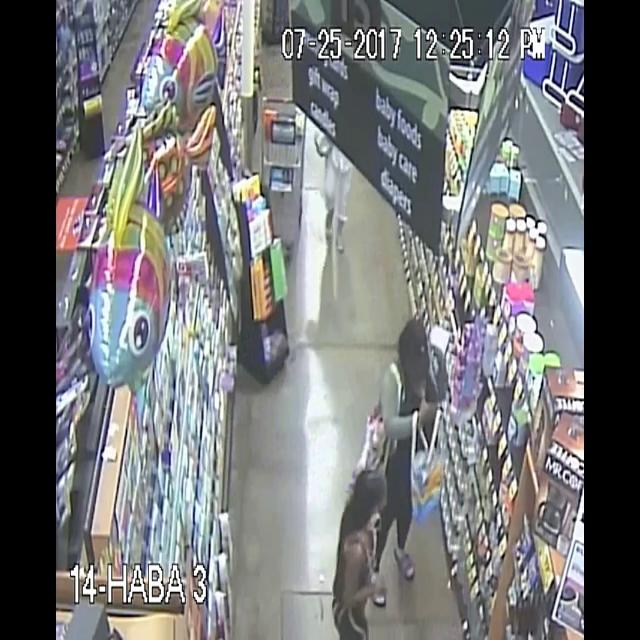normal: (319, 449, 401, 640)
shoplifting: (373, 289, 465, 440)
